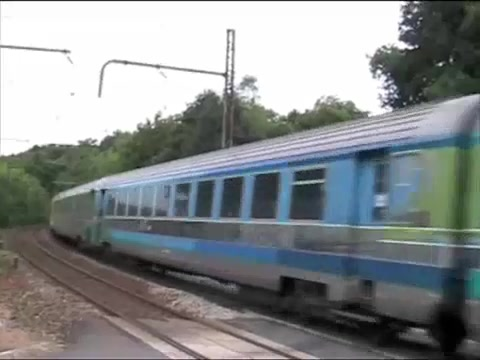train: (48, 95, 480, 355)
